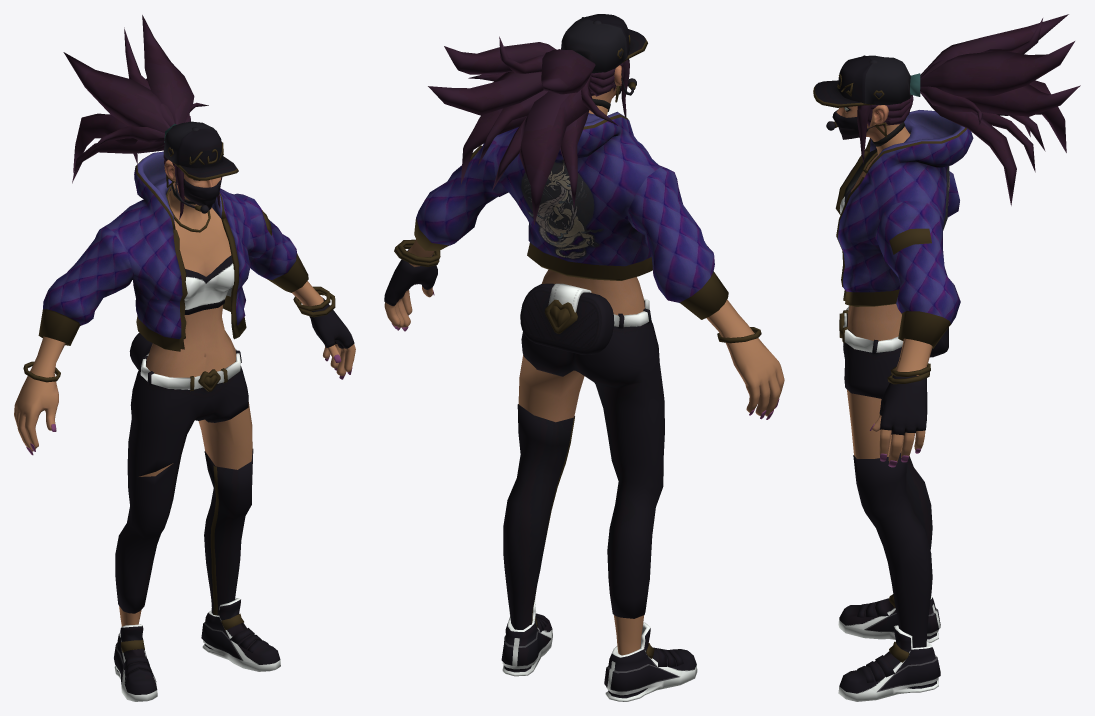
3 renders of one model, left to right at view 1: azimuth 30°, elevation 25°; view 2: azimuth 150°, elevation 25°; view 3: azimuth 270°, elevation 25°, orthographic. The views are drawn at different scales.
Visible parts, largest first — view 1: akali_body.001, akali_jacket.001, akali_cap_hair.001, akali_some.001, akali_glove.001, akali_mask.001; view 2: akali_body.001, akali_jacket.001, akali_cap_hair.001, akali_bag.001, akali_glove.001, akali_some.001; view 3: akali_body.001, akali_jacket.001, akali_cap_hair.001, akali_glove.001, akali_femscout_head.001, akali_some.001, akali_mask.001.
Part boxes in pixels (x1,y1,x2,y2): akali_body.001: (14, 188, 355, 701); akali_jacket.001: (38, 151, 308, 351); akali_cap_hair.001: (63, 15, 238, 219); akali_some.001: (23, 175, 335, 382); akali_glove.001: (309, 297, 354, 348); akali_mask.001: (175, 177, 221, 210); akali_body.001: (384, 105, 784, 701); akali_jacket.001: (414, 111, 728, 319); akali_cap_hair.001: (428, 14, 647, 224); akali_bag.001: (520, 283, 614, 354); akali_glove.001: (384, 247, 437, 305); akali_some.001: (394, 85, 761, 343); akali_body.001: (838, 126, 940, 701); akali_jacket.001: (835, 110, 973, 348); akali_cap_hair.001: (813, 14, 1080, 205); akali_glove.001: (879, 375, 927, 435); akali_femscout_head.001: (836, 105, 905, 141); akali_some.001: (862, 122, 930, 384); akali_mask.001: (832, 110, 874, 139).
Bounding box in the file's own units: 1265 × 2154 × 807.
Materials: 13 (13 with a texture image).
